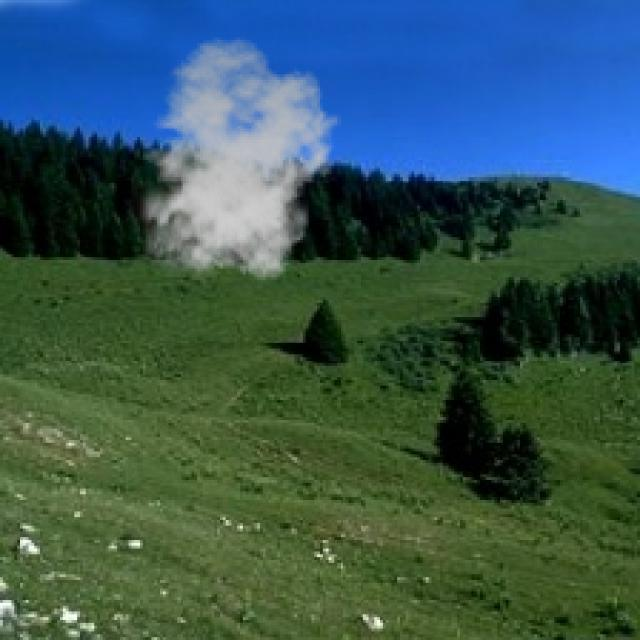Smoke: (128, 37, 340, 289)
